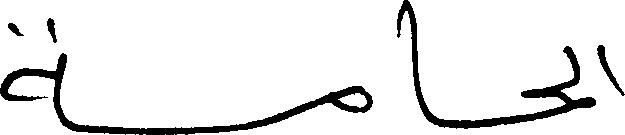X: (0, 13, 64, 130), (522, 41, 594, 126), (405, 0, 429, 126), (597, 40, 624, 100), (334, 81, 372, 117)
